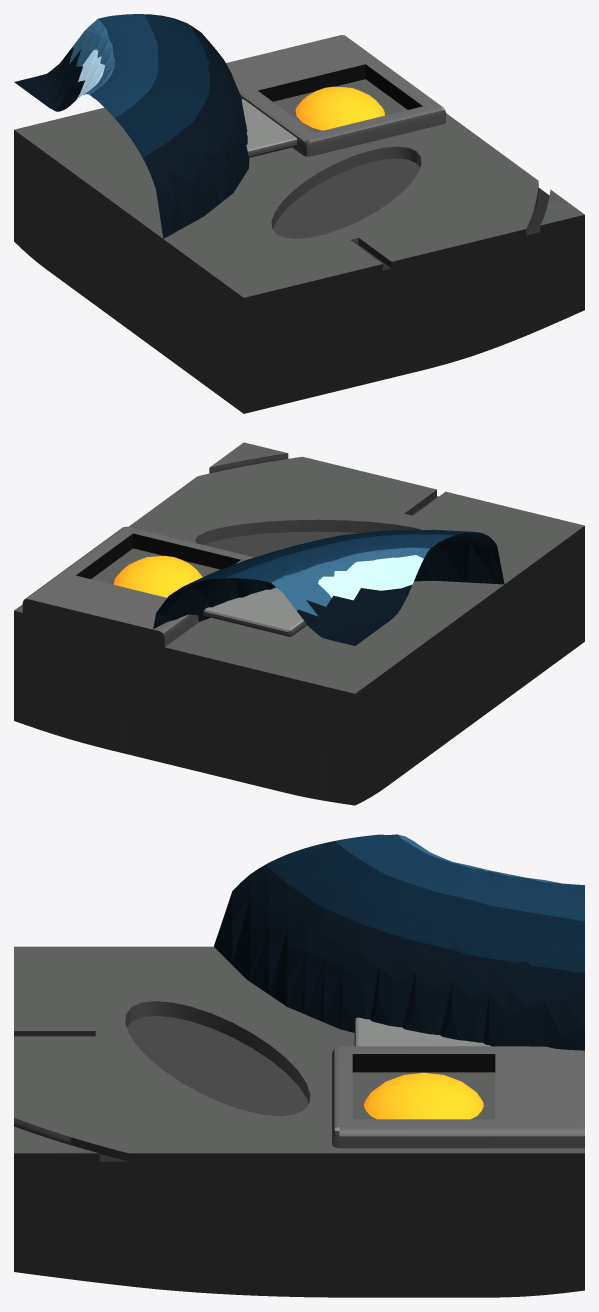
The model's file is camanis_boss_201.glb.
The picture shows the model from 3 angles, top to bottom: view 1: azimuth 30°, elevation 25°; view 2: azimuth 150°, elevation 25°; view 3: azimuth 270°, elevation 25°; orthographic projection. The views are drawn at different scales.
Parts seen in each view (by area): view 1: camanis_boss_201; view 2: camanis_boss_201; view 3: camanis_boss_201.
Part boxes in pixels (x1=…): camanis_boss_201: x1=14, y1=14, x2=584, y2=413; camanis_boss_201: x1=14, y1=442, x2=584, y2=805; camanis_boss_201: x1=14, y1=834, x2=584, y2=1297.
Size of the model in its own units: 24 by 13.91 by 28.
